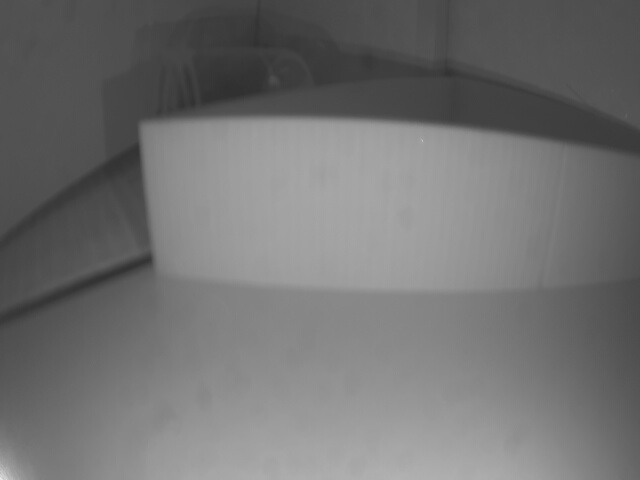Point: (137, 121, 640, 281)
